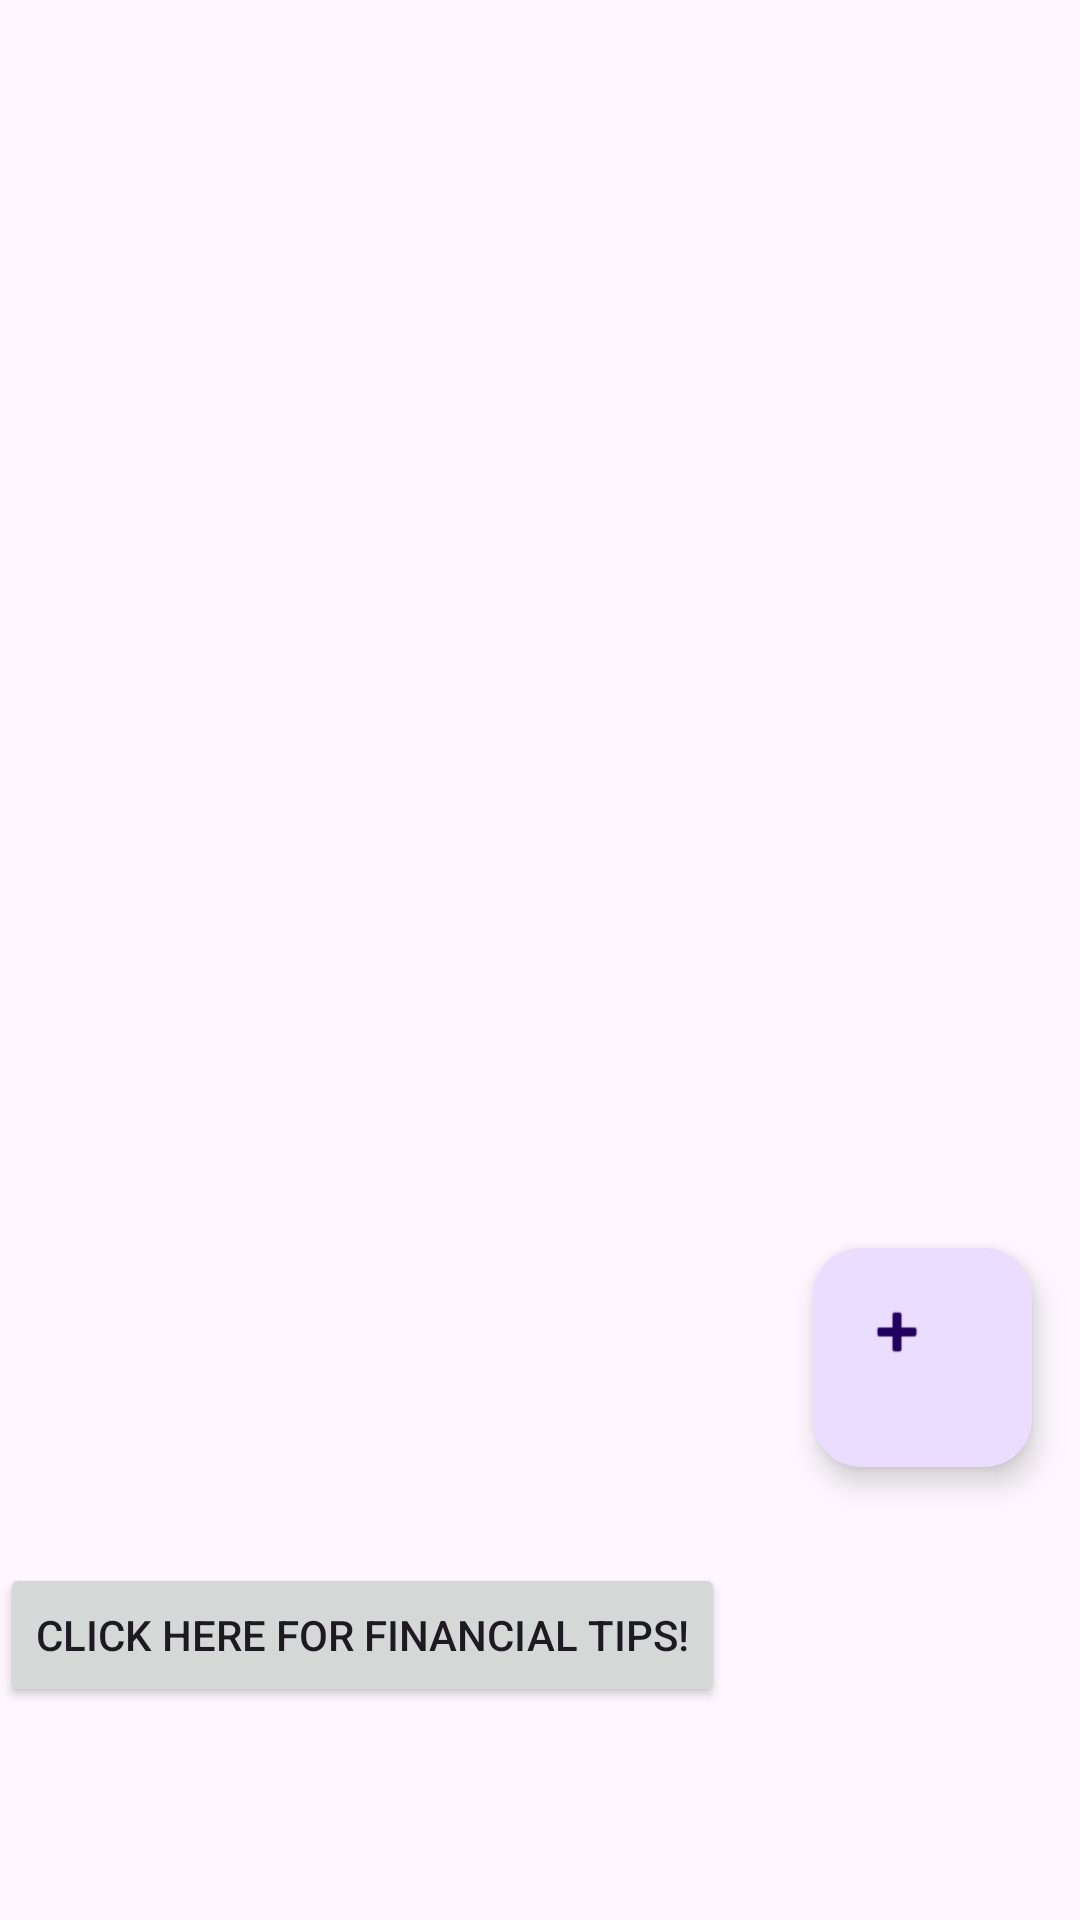

Icon bounding boxes for this 1080×1920 phone screenshot, format (x1, y1, x2, y2):
add: (813, 1248, 1032, 1467)
